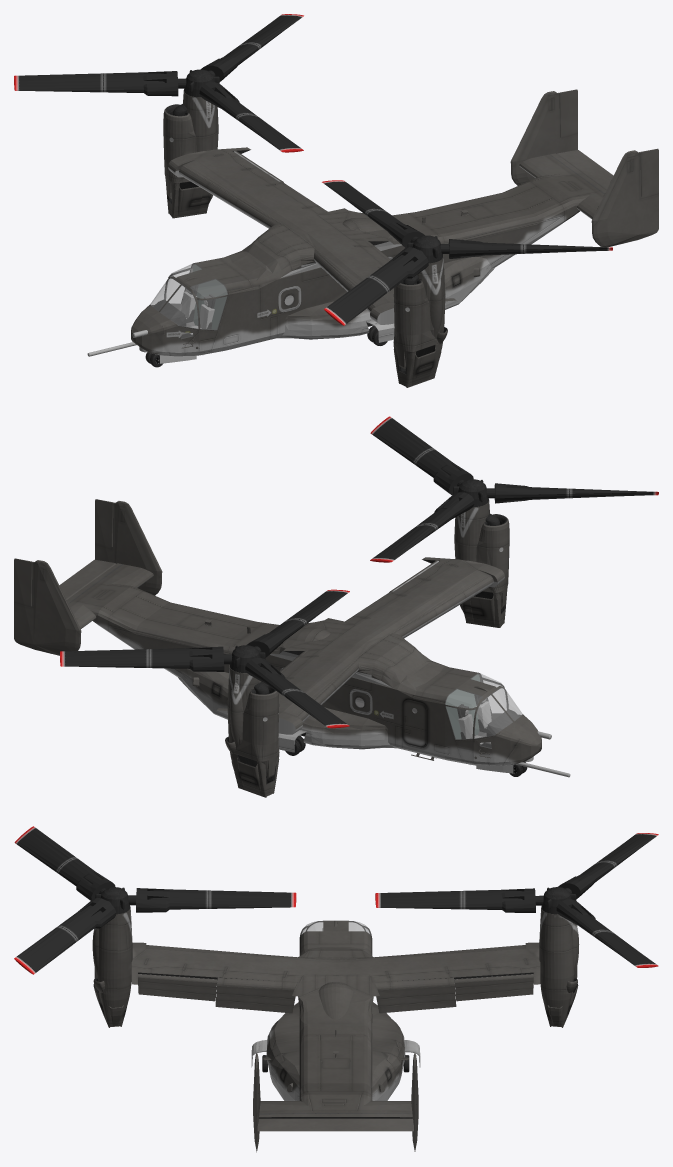
Rendered from V22Osprey.fbx.
3 renders of one model, top to bottom at view 1: azimuth 30°, elevation 25°; view 2: azimuth 150°, elevation 25°; view 3: azimuth 270°, elevation 25°, orthographic. The views are drawn at different scales.
Visible parts, largest first — view 1: v22.Shape; view 2: v22.Shape; view 3: v22.Shape.
Boxes of the visible parts, x1,y1,x2,y2 form: v22.Shape: (14,14,658,387); v22.Shape: (14,416,658,797); v22.Shape: (14,826,658,1152).
Size of the model in its own units: 188 by 59.04 by 205.
9 materials, 6 textured.
